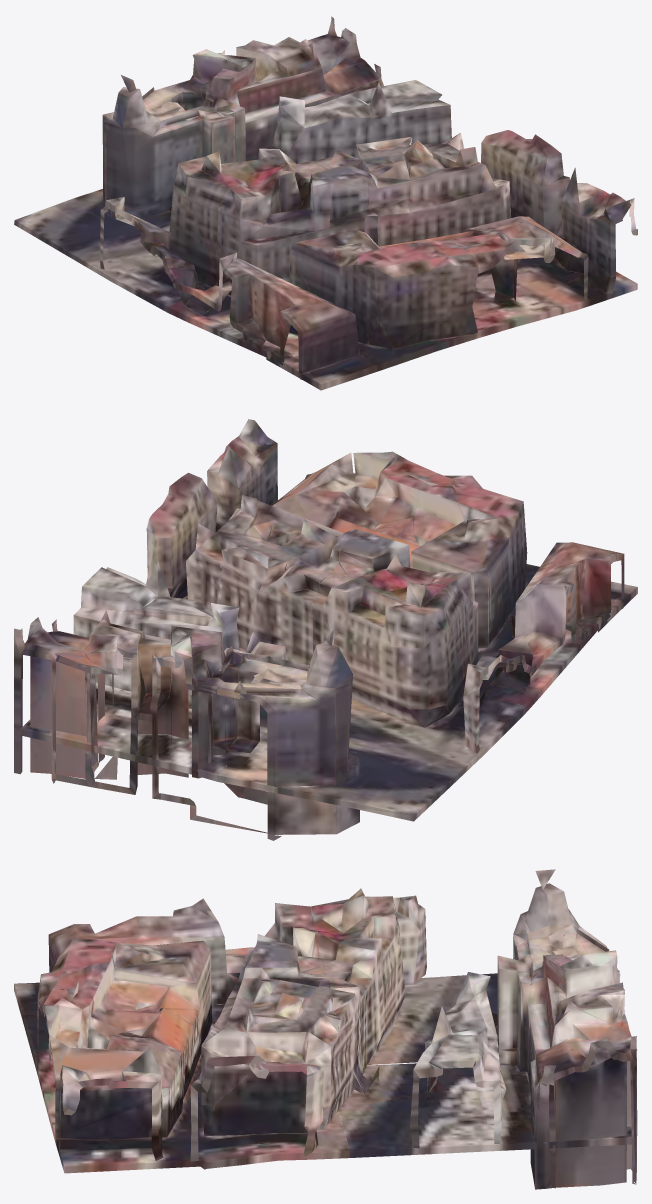
3 renders of one model, top to bottom at view 1: azimuth 30°, elevation 25°; view 2: azimuth 150°, elevation 25°; view 3: azimuth 270°, elevation 25°, orthographic. The views are drawn at different scales.
Visible parts, largest first — view 1: Mesh_0; view 2: Mesh_0; view 3: Mesh_0.
Part boxes in pixels (<box>): Mesh_0: <box>14,16,637,390</box>; Mesh_0: <box>14,419,637,840</box>; Mesh_0: <box>14,869,637,1189</box>.
Bounding box in the file's own units: 133 × 58.64 × 165.
1 material, 1 textured.
